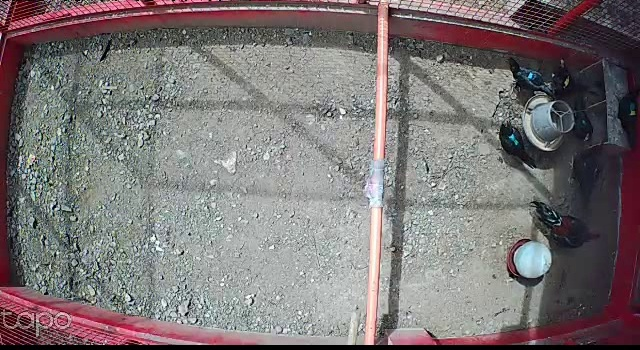Chicken: (566, 141, 605, 211), (505, 56, 557, 104), (498, 118, 537, 171), (614, 86, 640, 150), (550, 57, 587, 100), (564, 94, 597, 142)
Drinker: (507, 239, 552, 278)
Feeder: (520, 93, 576, 151)
Rooster: (528, 199, 604, 252)
Saddle_Color_Blue: (528, 72, 535, 81)
Saddle_Color_Yellow: (563, 77, 570, 88)
Saddle_Color_YellowGreen: (626, 103, 637, 117)
